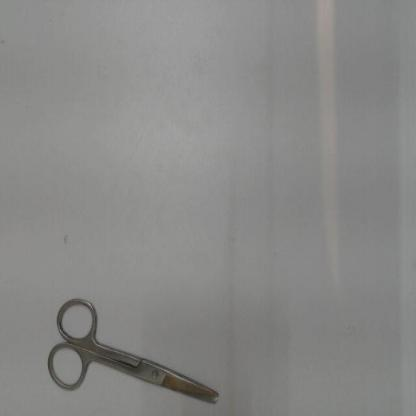Dressing Scissors: (40, 287, 225, 412)
